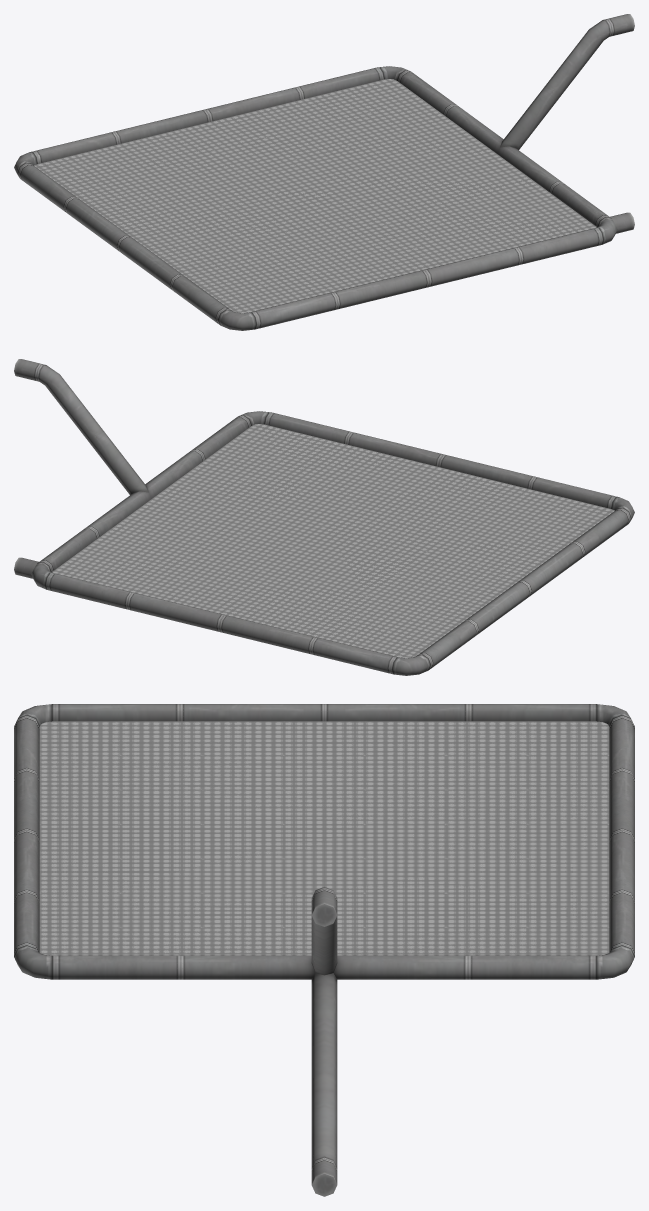
File: canopus_basic_grid_fin_srf_2.obj
3 views of the same model, one above another, from view 1: azimuth 30°, elevation 25°; view 2: azimuth 150°, elevation 25°; view 3: azimuth 270°, elevation 25° (orthographic). The views are drawn at different scales.
Visible parts, largest first — view 1: mesh2, mesh1; view 2: mesh2, mesh1; view 3: mesh2, mesh1.
Part boxes in pixels (x1=…): mesh2: x1=34, y1=79, x2=596, y2=313; mesh1: x1=14, y1=14, x2=634, y2=330; mesh2: x1=52, y1=424, x2=614, y2=658; mesh1: x1=14, y1=359, x2=634, y2=675; mesh2: x1=39, y1=721, x2=609, y2=955; mesh1: x1=14, y1=704, x2=634, y2=1196.
Size of the model in its own units: 2.36 by 0.95 by 1.83.
2 materials, 2 textured.
